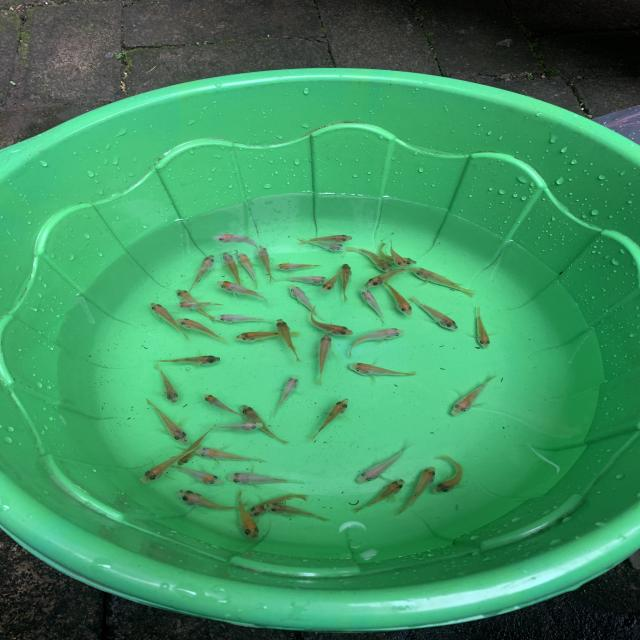nila: (140, 441, 207, 483), (447, 371, 501, 419), (224, 484, 267, 542), (144, 394, 192, 445), (241, 401, 294, 446), (358, 443, 412, 485), (394, 467, 439, 516), (407, 265, 478, 296), (246, 490, 317, 520), (308, 395, 352, 443), (176, 423, 224, 467), (173, 486, 239, 517), (192, 444, 276, 468), (305, 303, 360, 339), (406, 294, 458, 332), (433, 452, 475, 498), (147, 301, 191, 344), (347, 327, 407, 358), (174, 317, 234, 348), (175, 288, 225, 325), (348, 358, 422, 382), (271, 317, 307, 365), (264, 501, 335, 525), (268, 372, 303, 420), (352, 482, 408, 512), (342, 244, 396, 274), (168, 459, 225, 486), (214, 278, 273, 304), (150, 361, 184, 406), (286, 281, 326, 319), (185, 252, 218, 294), (362, 264, 419, 288), (380, 279, 416, 317), (223, 470, 313, 485), (202, 233, 268, 253), (200, 392, 250, 418), (358, 286, 392, 324), (230, 327, 306, 344), (376, 238, 422, 266), (334, 259, 359, 304), (315, 331, 335, 387), (150, 352, 230, 366), (294, 234, 349, 254), (236, 250, 262, 291), (470, 305, 493, 351), (220, 247, 245, 287), (274, 272, 332, 288), (211, 313, 280, 326), (298, 231, 355, 246), (255, 240, 274, 284), (210, 419, 267, 433), (173, 299, 234, 310), (387, 238, 409, 268), (319, 267, 344, 292), (271, 261, 329, 271)
